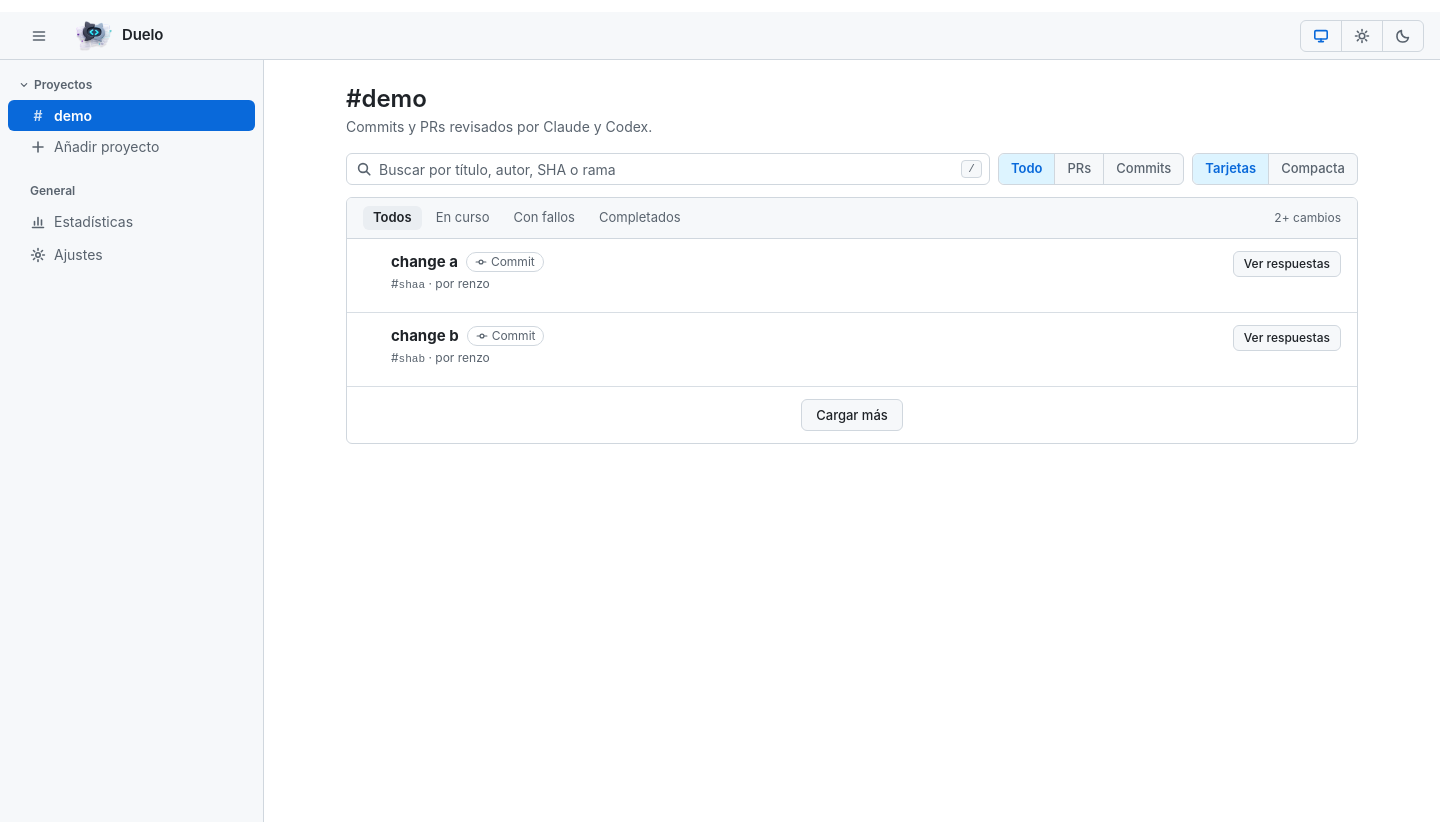
Test: load more › appends the next page without duplicates and hides the button at the end
Expected: the text "change a" is shown, [391,252,458,270]
Step 1. Click the button "Cargar más" → (852, 415), box [801,399,903,431]
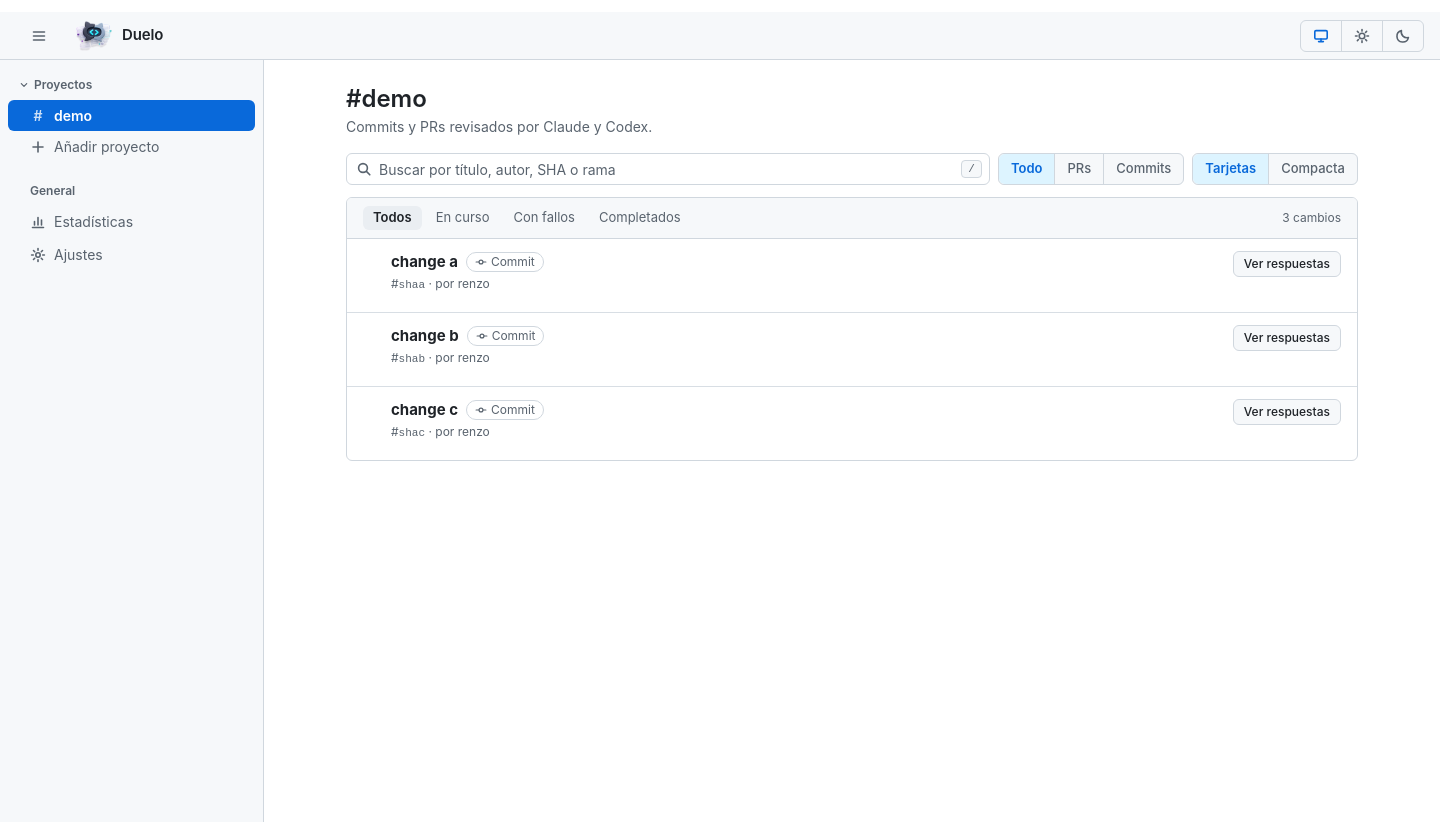
Expected: the text "change b" is shown once, [391,326,459,345]
Expected: the text "change c" is shown, [391,400,458,419]
Expected: the button "Cargar más" is gone
